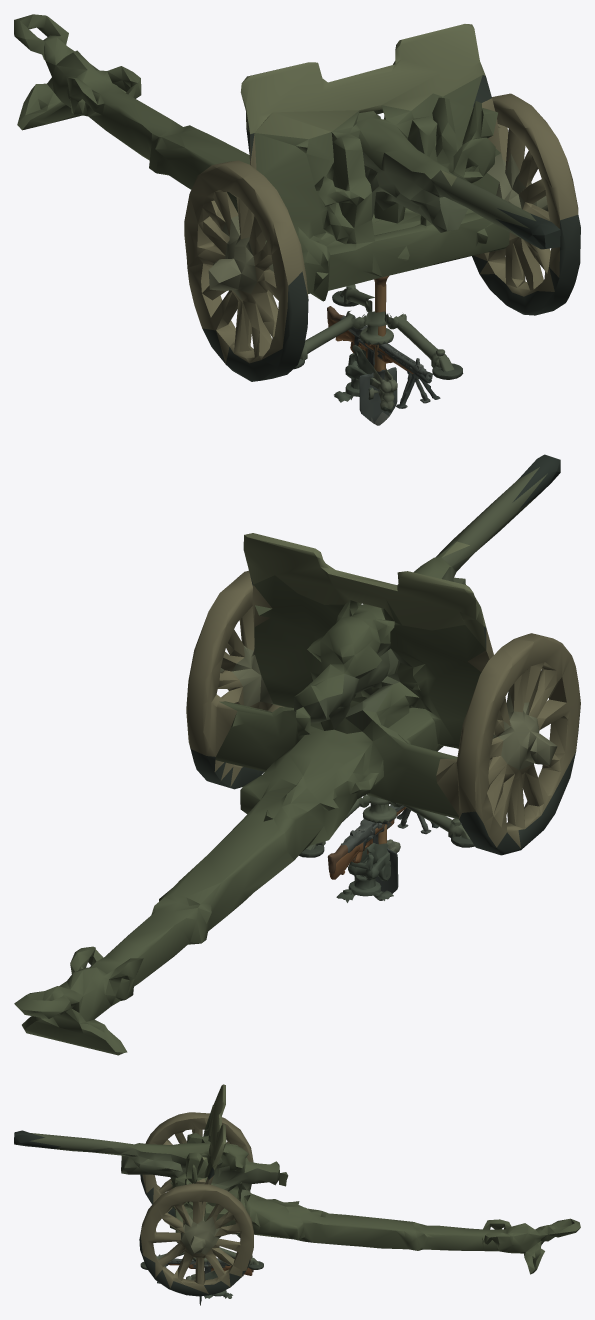
Rendered from weapons.glb.
3 renders of one model, top to bottom at view 1: azimuth 30°, elevation 25°; view 2: azimuth 150°, elevation 25°; view 3: azimuth 270°, elevation 25°, orthographic. The views are drawn at different scales.
Parts seen in each view (by area): view 1: cannonCarriage, cannonWheelL, cannonWheelR, cannonBarrel, mgMountBase, shovel, mgMountHead, mg, bar; view 2: cannonCarriage, cannonWheelL, cannonWheelR, cannonBarrel, mgMountBase, mgMountHead, mg; view 3: cannonCarriage, cannonWheelR, cannonBarrel, cannonWheelL, mgMountBase.
Boxes of the visible parts, <box> form: cannonCarriage: <box>14,14,509,301</box>; cannonWheelL: <box>184,128,308,381</box>; cannonWheelR: <box>472,75,580,315</box>; cannonBarrel: <box>362,129,560,249</box>; mgMountBase: <box>293,284,463,379</box>; shovel: <box>359,276,397,425</box>; mgMountHead: <box>334,345,397,412</box>; mg: <box>327,306,432,379</box>; bar: <box>328,318,431,383</box>; cannonCarriage: <box>14,533,486,1055</box>; cannonWheelL: <box>436,626,580,855</box>; cannonWheelR: <box>186,570,284,789</box>; cannonBarrel: <box>294,454,560,731</box>; mgMountBase: <box>299,795,474,857</box>; mgMountHead: <box>336,839,400,902</box>; mg: <box>327,804,399,873</box>; cannonCarriage: <box>118,1084,580,1274</box>; cannonWheelR: <box>139,1167,253,1296</box>; cannonBarrel: <box>14,1130,279,1201</box>; cannonWheelL: <box>140,1112,253,1216</box>; mgMountBase: <box>140,1247,263,1269</box>.
Size of the model in its own units: 2.4 by 2.42 by 6.43.
